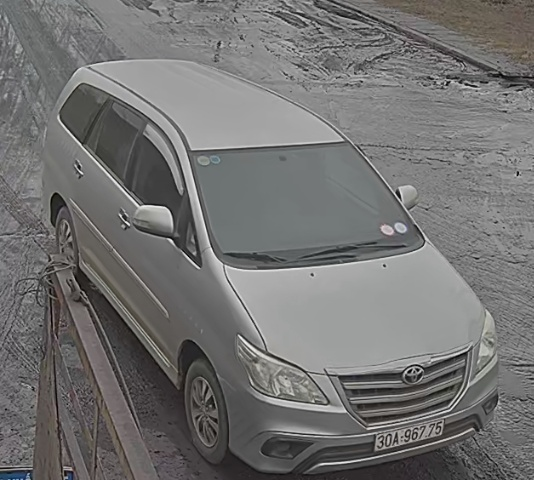vehicle plate: (374, 417, 453, 453)
